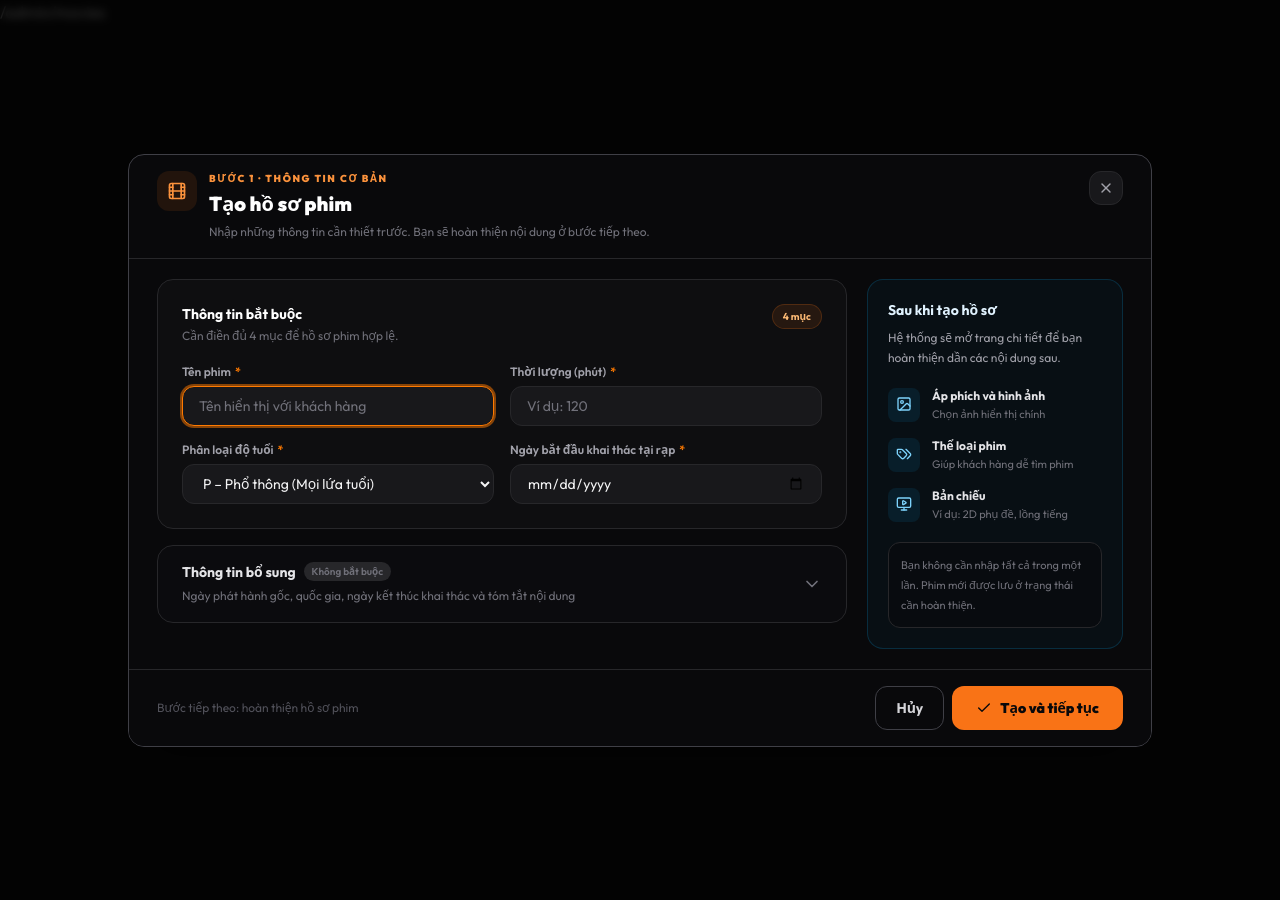
Test: MovieFormModal › focuses creation on required fields and keeps optional information collapsed
The width and height of the screenshot is (1280, 900).
Check: the heading "Tạo hồ sơ phim" is shown, box [209,190,352,216]
Check: the text "Bước 1 · Thông tin cơ bản" is shown, box [209,172,388,184]
What coordinates should you click on to do the following:
click the button "Thông tin bổ sung"
I would click on:
 (239, 572)
Its box is [158,546,846,622].
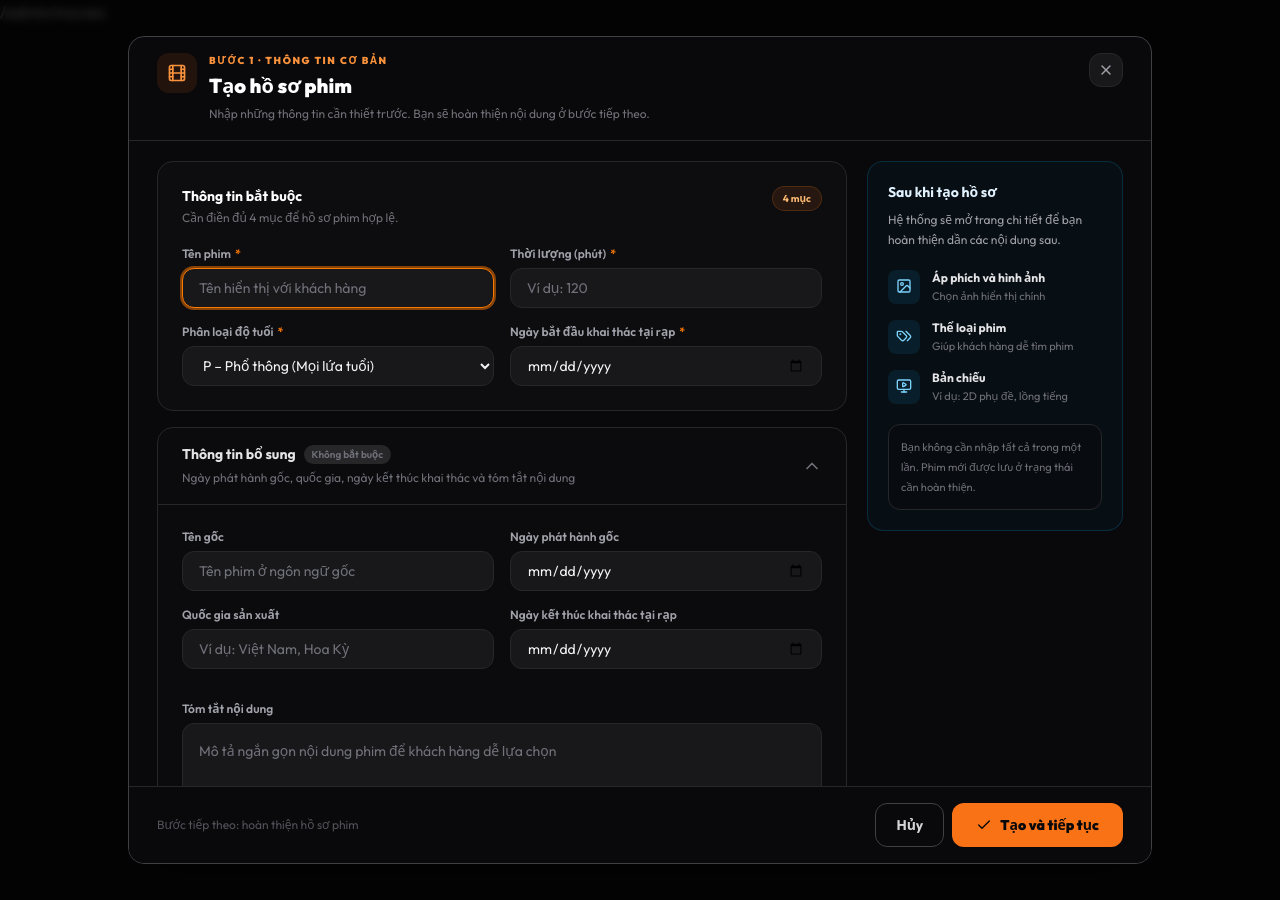
Check: the button "Thông tin bổ sung" is expanded, box [158,428,846,504]
Check: the field named "Tên gốc" is shown, box [182,551,494,591]
